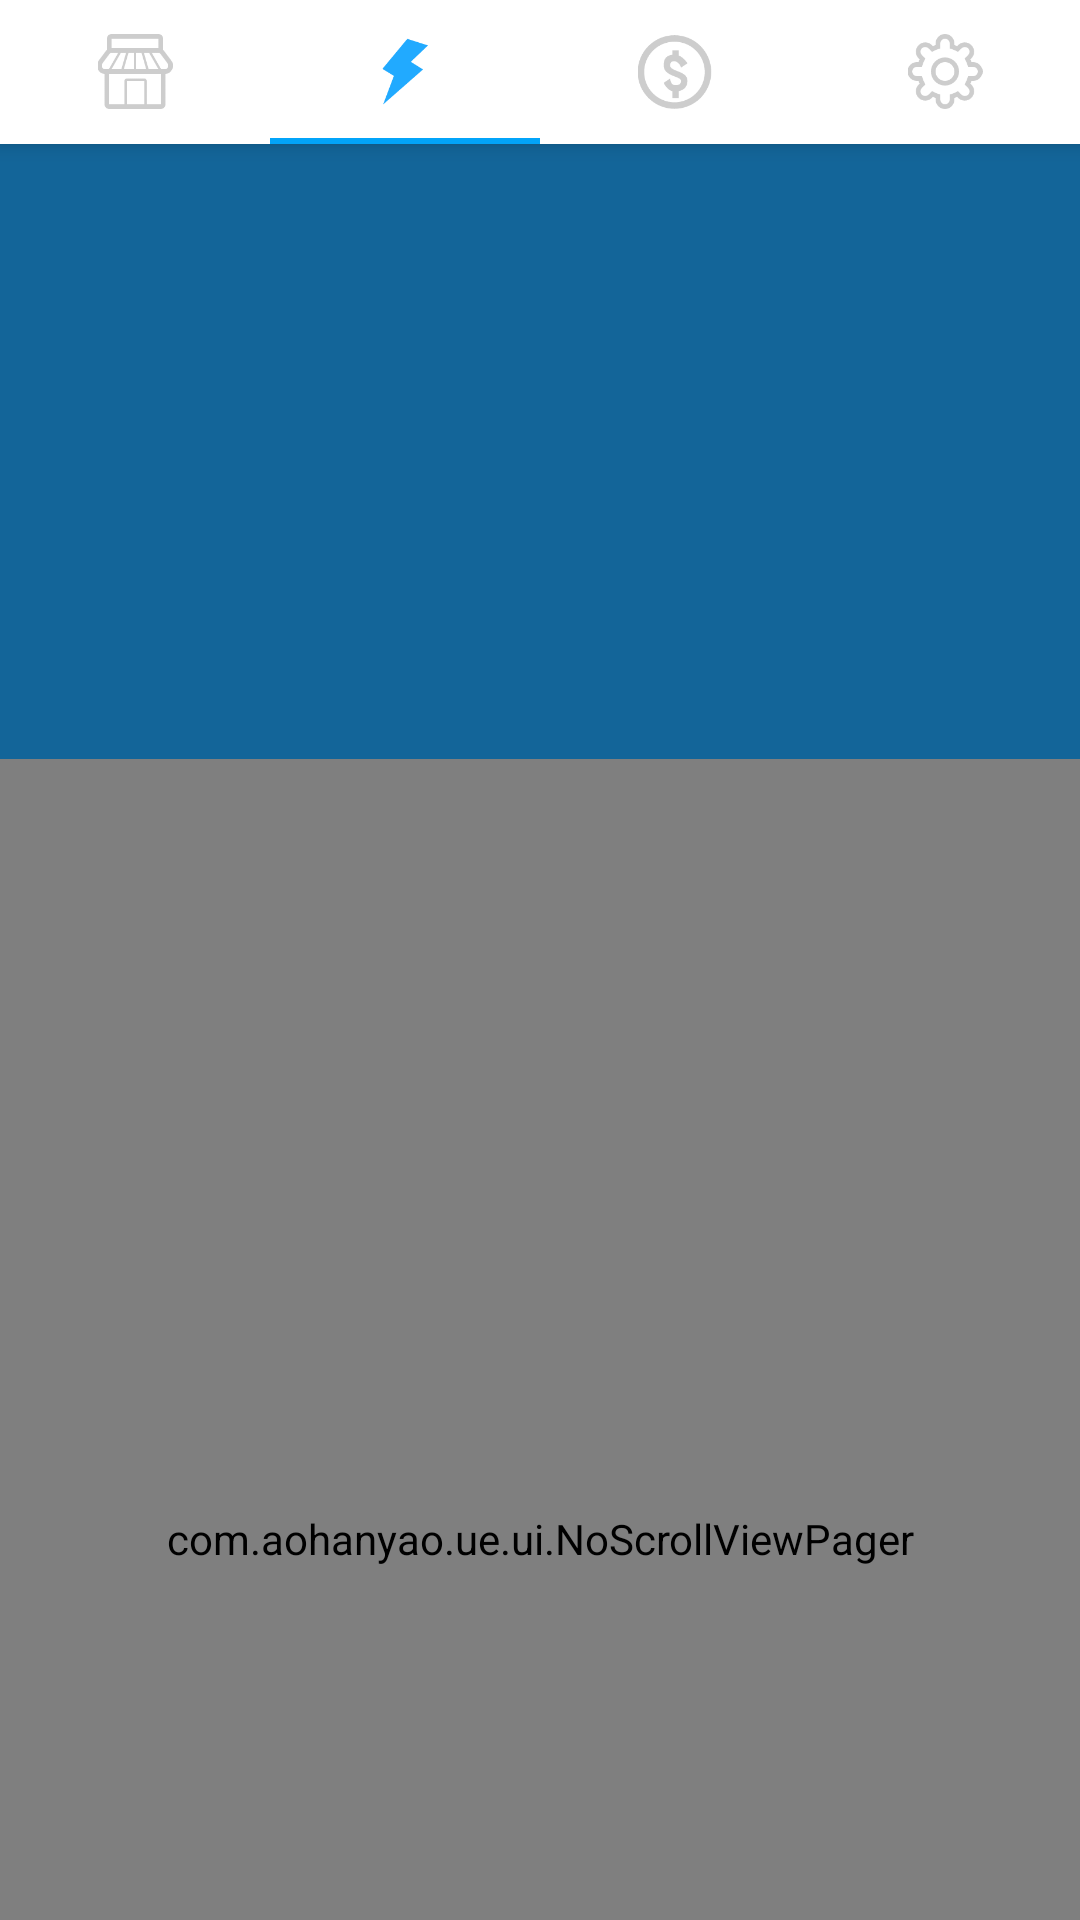

Named icons in this screenshot (1080w x 1920h) and their bounding boxes, (x1=x1, y1=y1, x2=x2, y2=y2):
dollar: (x1=638, y1=35, x2=711, y2=109)
flash: (x1=382, y1=39, x2=428, y2=104)
setting: (x1=908, y1=34, x2=983, y2=109)
shop: (x1=98, y1=34, x2=173, y2=109)
